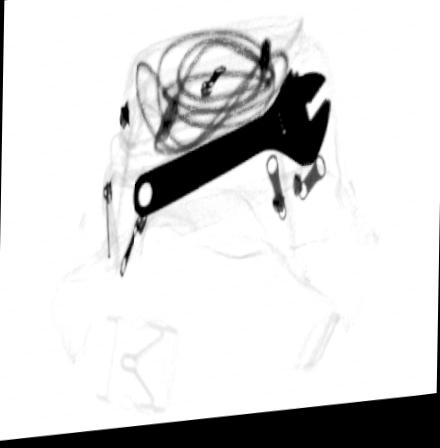Wrench: (130, 77, 330, 224)
